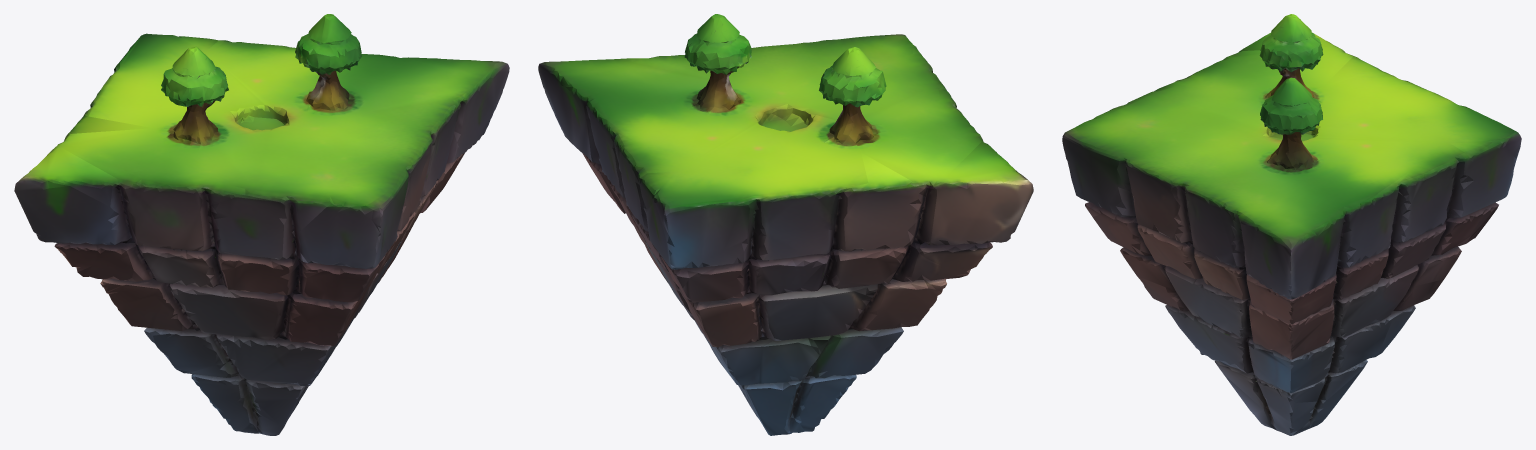
Rendered from island.glb.
3 renders of one model, left to right at view 1: azimuth 30°, elevation 25°; view 2: azimuth 150°, elevation 25°; view 3: azimuth 270°, elevation 25°, orthographic. The views are drawn at different scales.
Parts seen in each view (by area): view 1: Rodin_island; view 2: Rodin_island; view 3: Rodin_island.
Boxes of the visible parts, box(x1,y1,x2,y2) form: Rodin_island: box(14, 14, 509, 435); Rodin_island: box(538, 14, 1033, 435); Rodin_island: box(1062, 14, 1521, 435).
Size of the model in its own units: 6.63 by 5.03 by 5.56.
1 material, 1 textured.
